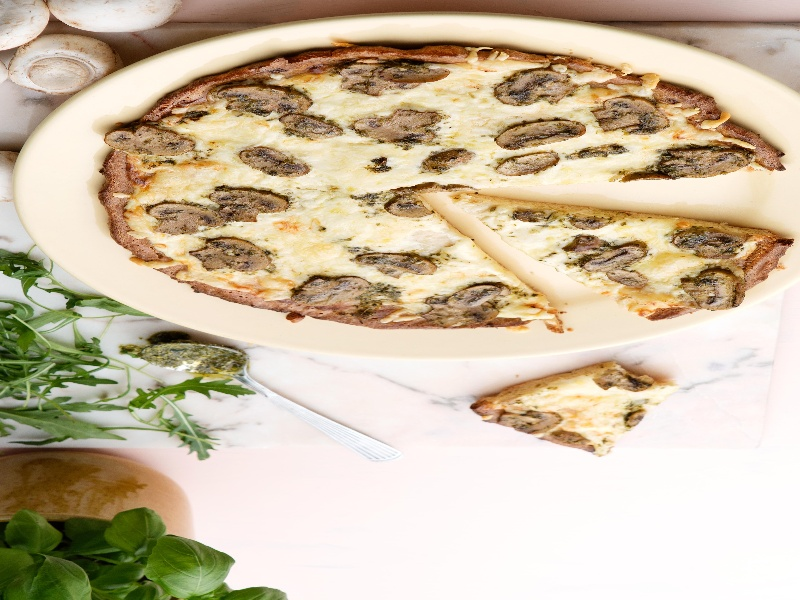champignon: (91, 122, 204, 166), (216, 79, 312, 130), (352, 99, 449, 149), (212, 181, 295, 230), (593, 91, 669, 144), (349, 242, 440, 285), (193, 235, 274, 282), (678, 263, 748, 316), (495, 116, 592, 152), (147, 201, 221, 239)
